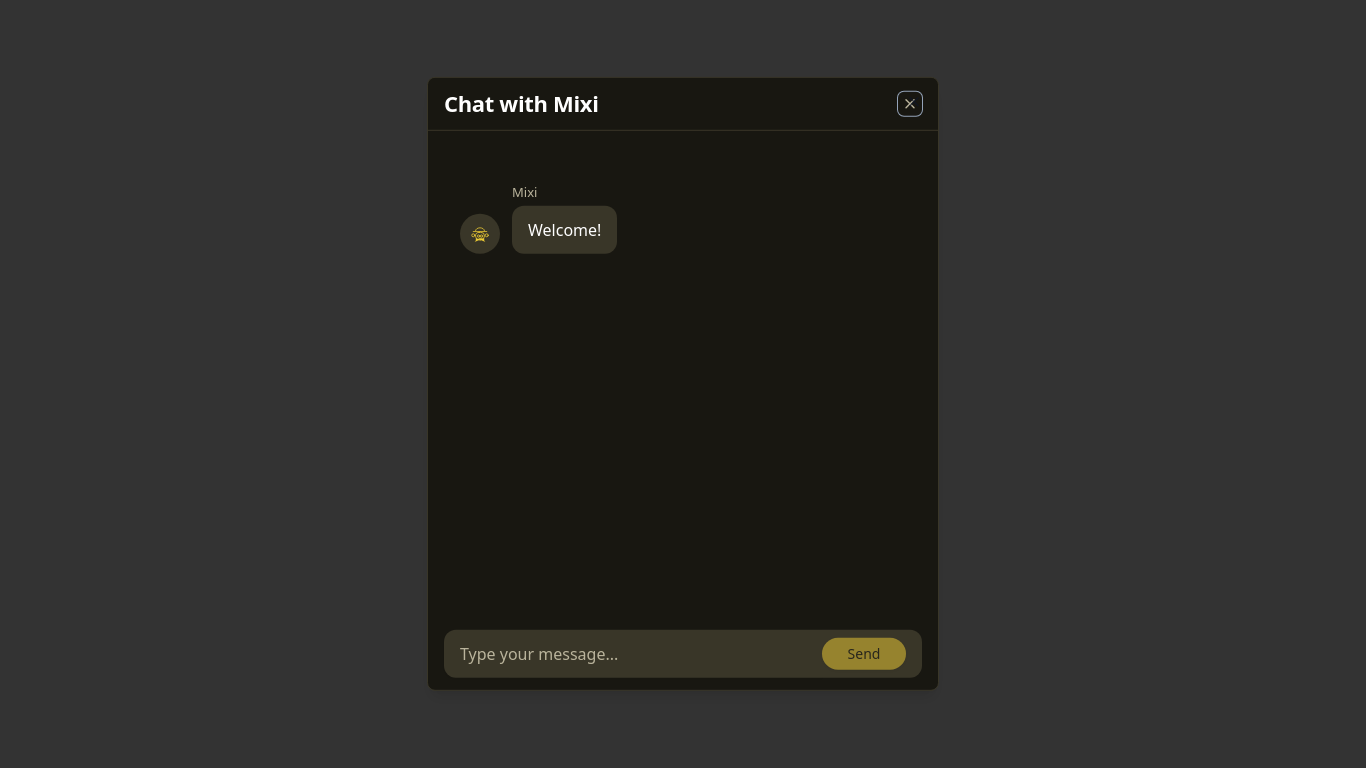
MixiChat Streaming Tests › Streaming chunk handling and accumulation › should handle multi-line SSE chunks correctly
The image size is (1366, 768).
Type "Test" into the field with test id "mixi-chat-input" at (633, 654), box [444,630,822,678]
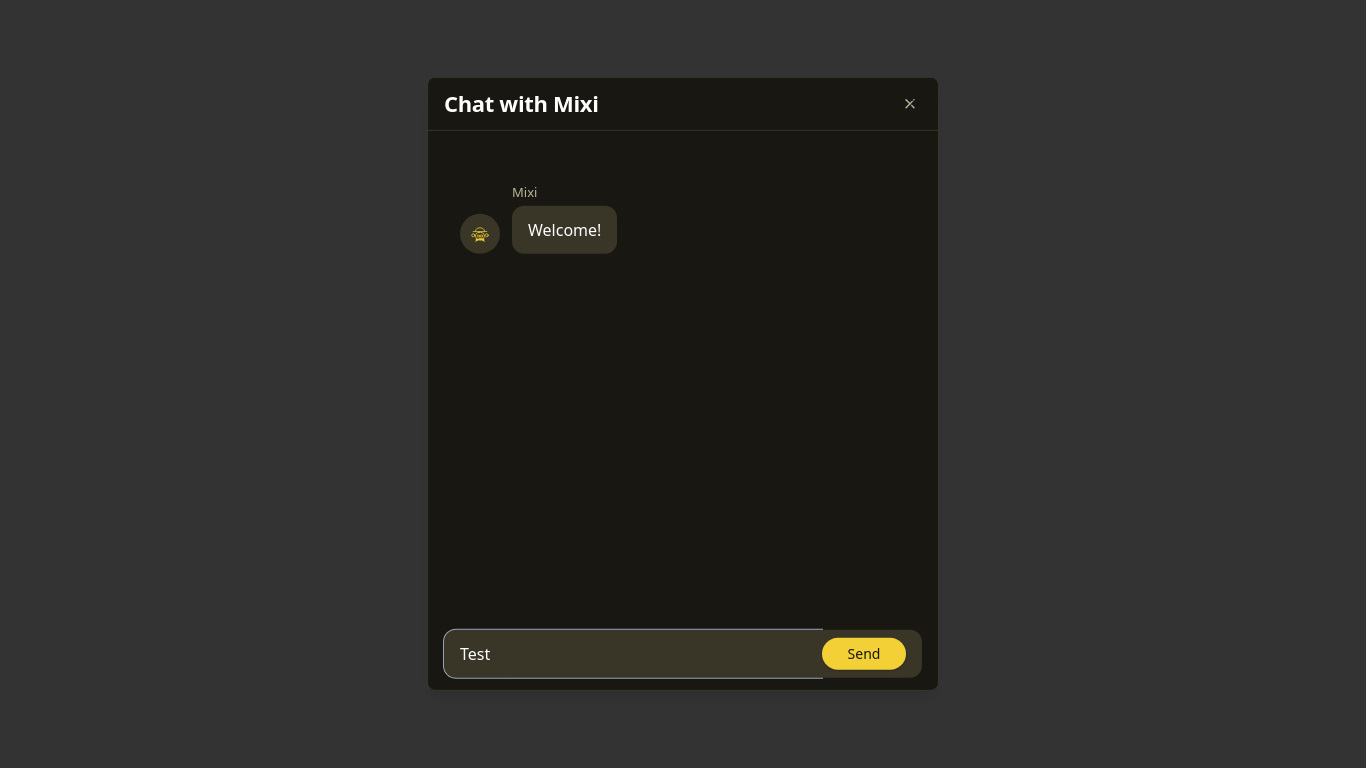
Click the button with test id "mixi-chat-send-button" at (864, 654), box [822,638,906,670]
Wait 100 ms
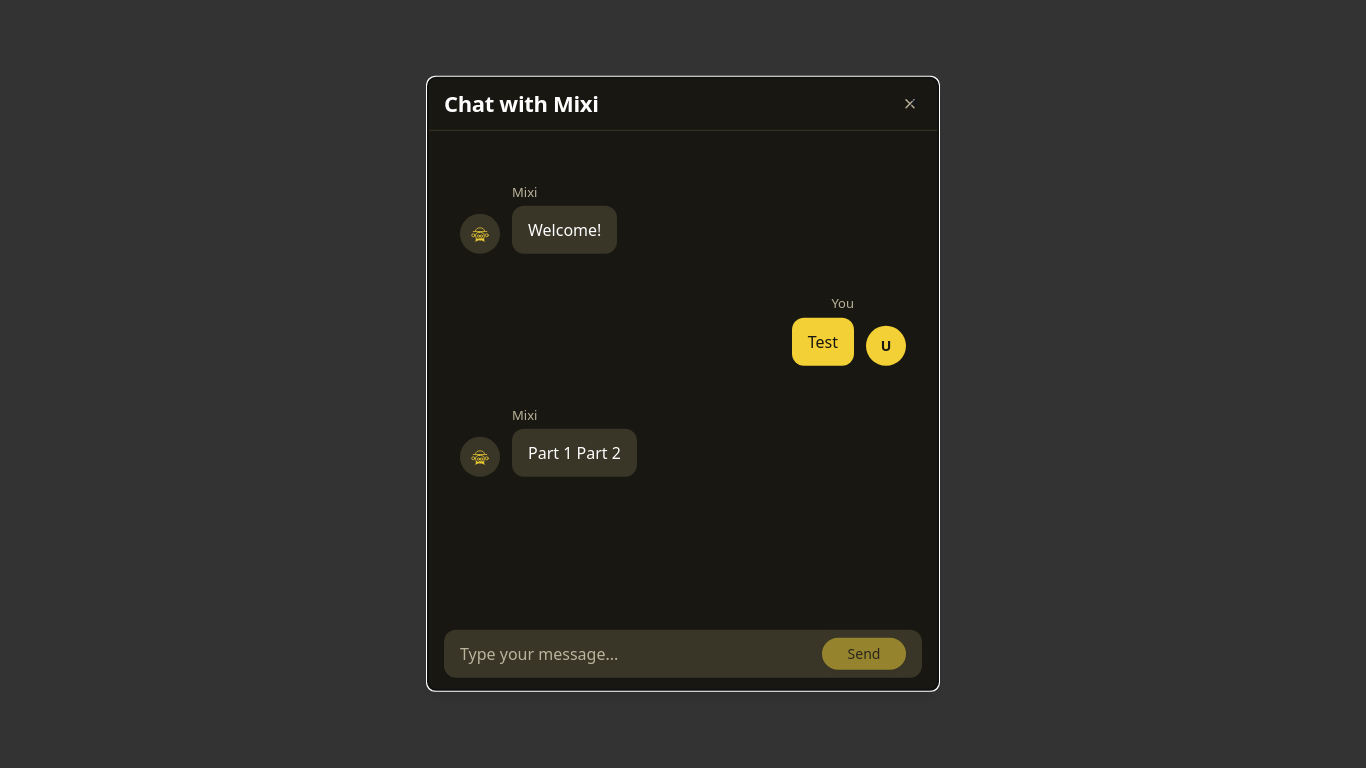
Expected: the element with test id "mixi-chat-messages" shows "Part 1 Part 2", [528,442,621,464]
